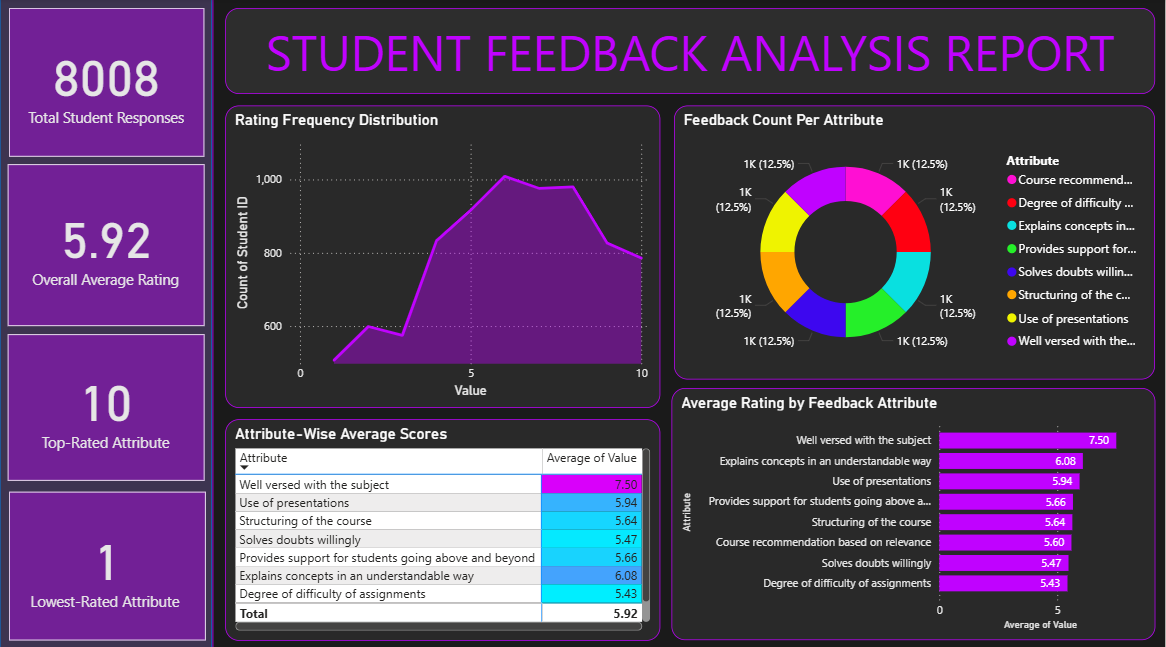

The dashboard page shown, as its layout file describes it:
{"tool":"powerbi","page":{"name":"Page 1","canvas":[1280,720],"ordinal":0},"visuals":[{"type":"clusteredBarChart","title":"Average Rating by Feedback Attribute","fields":{"Category":["student_feedback.Attribute"],"Y":["Avg(student_feedback.Value)"]},"box":[738.3,428.1,531,277.2],"z":0},{"type":"pivotTable","title":"Attribute-Wise Average Scores","fields":{"Rows":["student_feedback.Attribute"],"Values":["Avg(student_feedback.Value)"]},"box":[248.4,462.4,477.5,242.9],"z":1000},{"type":"shape","box":[0,0,234.9,719.8],"z":2000},{"type":"card","fields":{"Values":["student_feedback.Total Ratings"]},"box":[11,11,214.3,163.5],"z":3000},{"type":"card","fields":{"Values":["Avg(student_feedback.Value)"]},"box":[9.6,182.7,215.7,177.2],"z":4000},{"type":"card","fields":{"Values":["student_feedback.Highest Attribute Score"]},"box":[9.6,369.5,215.7,160.7],"z":5000},{"type":"card","fields":{"Values":["student_feedback.Lowest Attribute Score"]},"box":[11,542.6,215.7,163.5],"z":6000},{"type":"donutChart","title":"Feedback Count Per Attribute","fields":{"Category":["student_feedback.Attribute"],"Y":["CountNonNull(student_feedback.Student ID)"]},"box":[741,118,528.3,300.5],"z":7000},{"type":"textbox","box":[248.4,11,1020.9,94.7],"z":8000},{"type":"areaChart","title":"Rating Frequency Distribution","fields":{"Category":["student_feedback.Value"],"Y":["CountNonNull(student_feedback.Student ID)"]},"box":[248.4,118,477.5,332.1],"z":9000}]}

Visuals, with their boxes in screenshot pixels (x1, y1, x2, y2), scaled from the page's 1280x720 canvas onto the 1166x647 screenshot:
"Average Rating by Feedback Attribute" clusteredBarChart: 673 385 1156 634
"Attribute-Wise Average Scores" pivotTable: 226 416 661 634
shape: 0 0 214 646
card - student_feedback.Total Ratings: 10 10 205 157
card - Avg(student_feedback.Value): 9 164 205 323
card - student_feedback.Highest Attribute Score: 9 332 205 476
card - student_feedback.Lowest Attribute Score: 10 488 207 635
"Feedback Count Per Attribute" donutChart: 675 106 1156 376
textbox: 226 10 1156 95
"Rating Frequency Distribution" areaChart: 226 106 661 404
